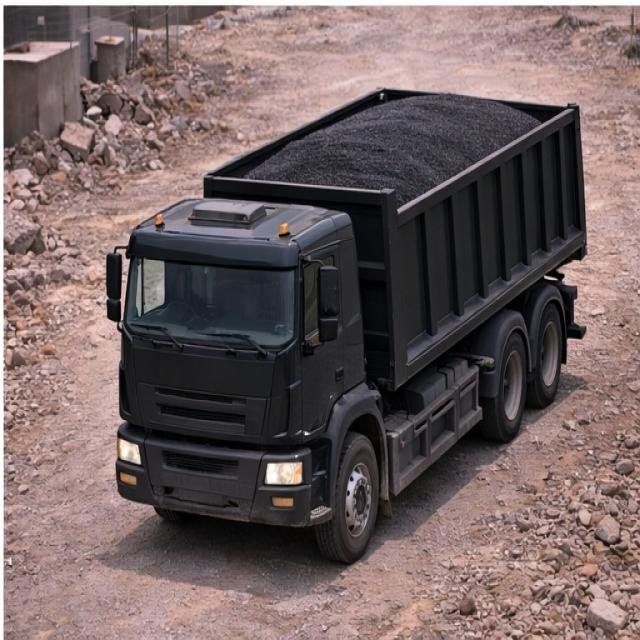Box: (203, 83, 583, 206)
Truck: (106, 70, 600, 542)
